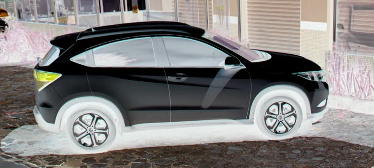car: (32, 17, 337, 152)
